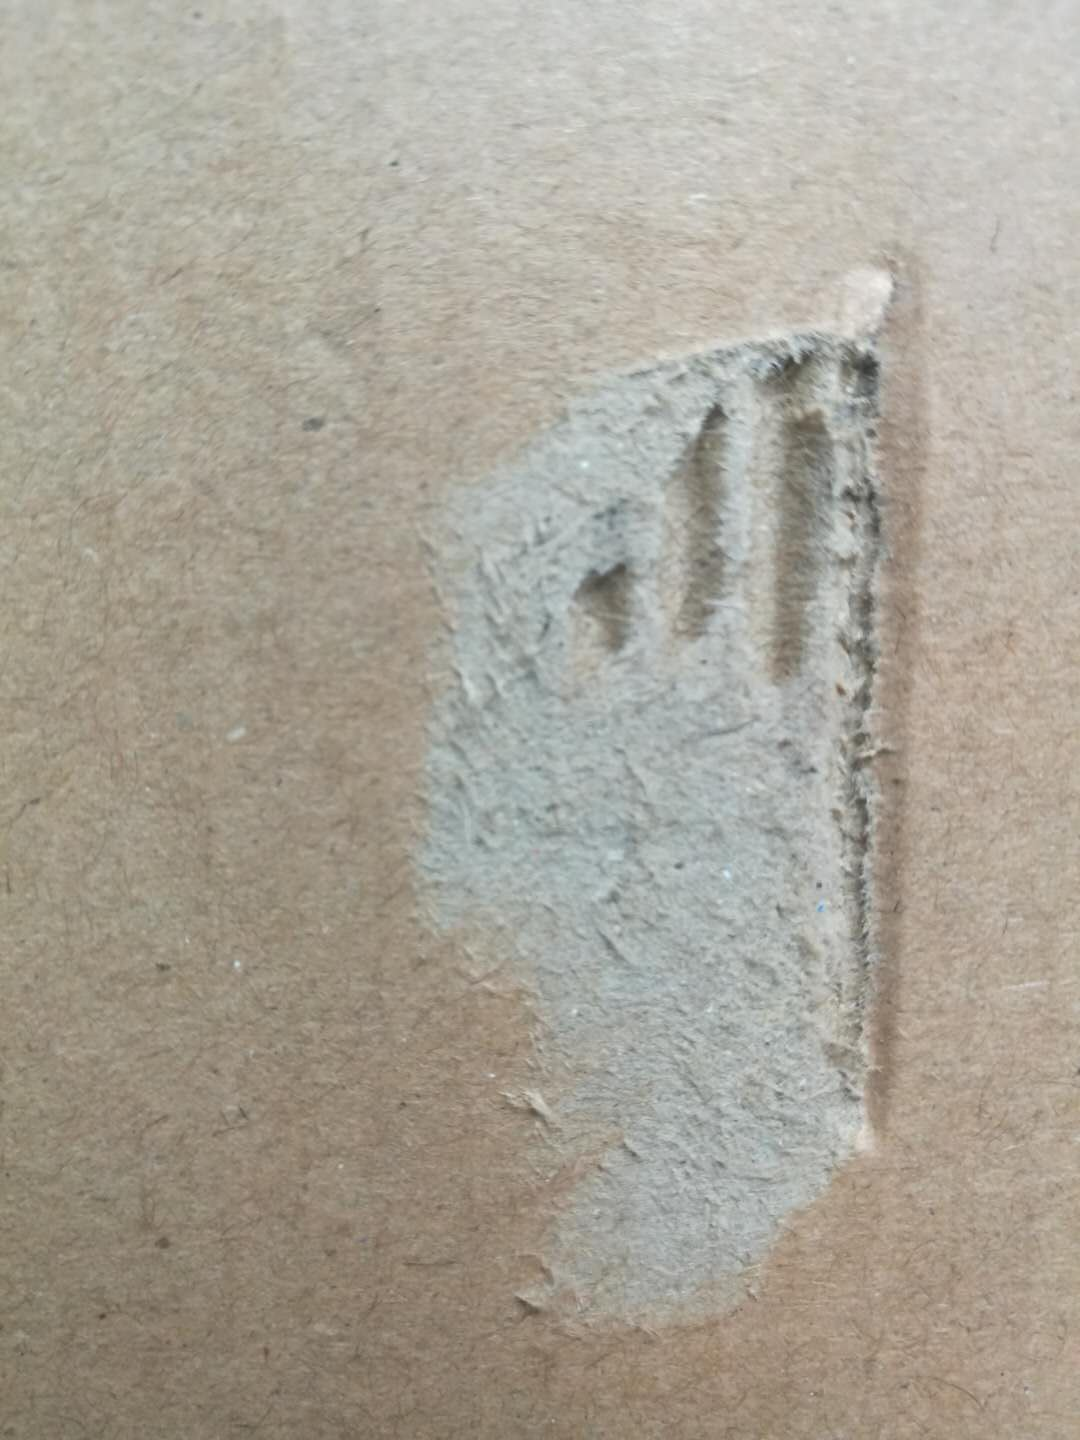defect: (369, 205, 1003, 1388)
